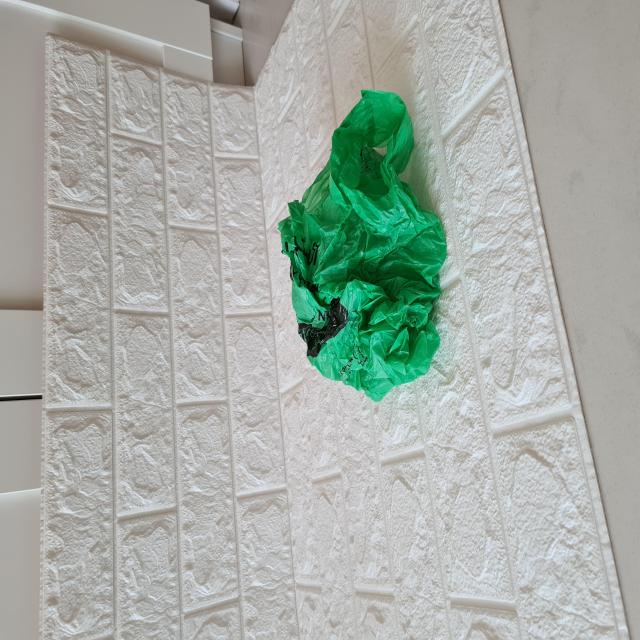plastic bag: (276, 86, 450, 404)
